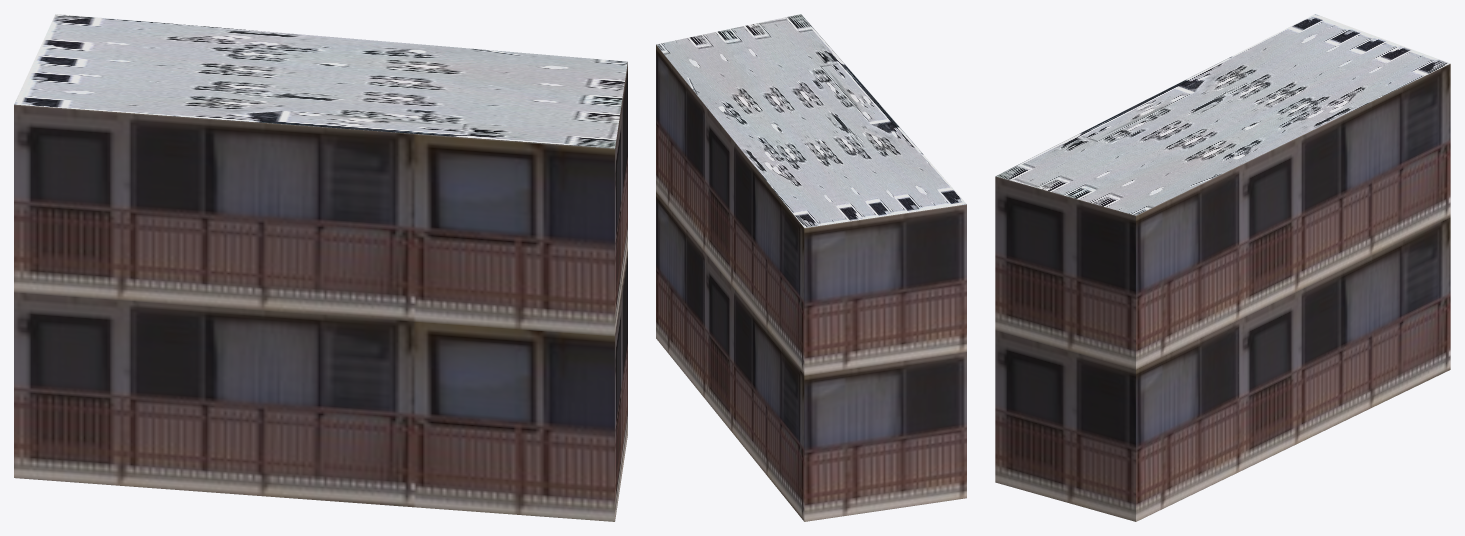
Rendered from ResTex__2980.fbx.
3 renders of one model, left to right at view 1: azimuth 30°, elevation 25°; view 2: azimuth 150°, elevation 25°; view 3: azimuth 270°, elevation 25°, orthographic. The views are drawn at different scales.
Parts seen in each view (by area): view 1: CityEngineMaterial_6_m, CityEngineMaterial_4_m; view 2: CityEngineMaterial_6_m, CityEngineMaterial_4_m; view 3: CityEngineMaterial_6_m, CityEngineMaterial_4_m.
Boxes of the visible parts, box(x1,y1,x2,y2) form: CityEngineMaterial_6_m: box(14, 62, 627, 521); CityEngineMaterial_4_m: box(14, 14, 627, 148); CityEngineMaterial_6_m: box(656, 45, 966, 521); CityEngineMaterial_4_m: box(656, 14, 966, 227); CityEngineMaterial_6_m: box(995, 64, 1450, 521); CityEngineMaterial_4_m: box(995, 14, 1450, 215).
Bounding box in the file's own units: 8.48 × 6 × 8.09.
Materials: 2 (2 with a texture image).
